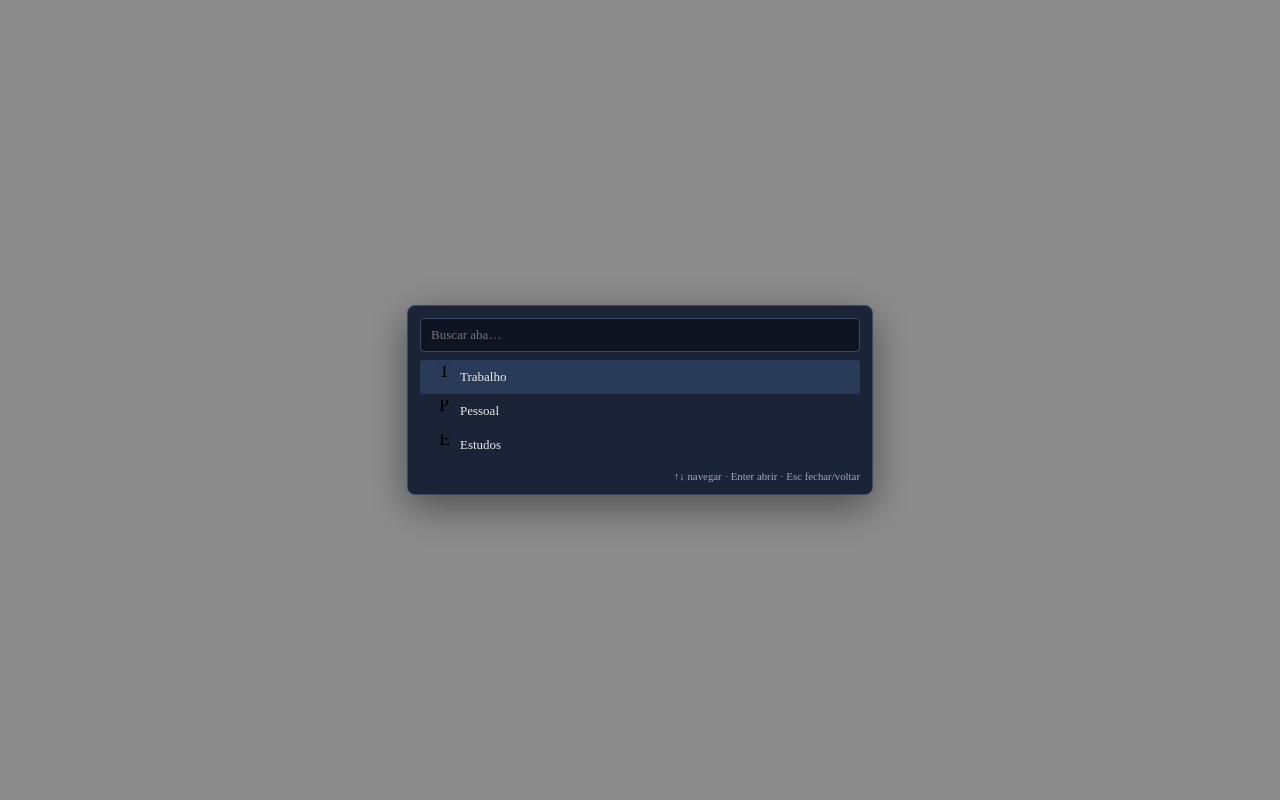
TabSearchOverlay › filters rows by substring as the user types
The image size is (1280, 800).
Type "trab" into the search field with test id "search-input".
click(640, 335); type("trab")  # box [420, 318, 860, 352]
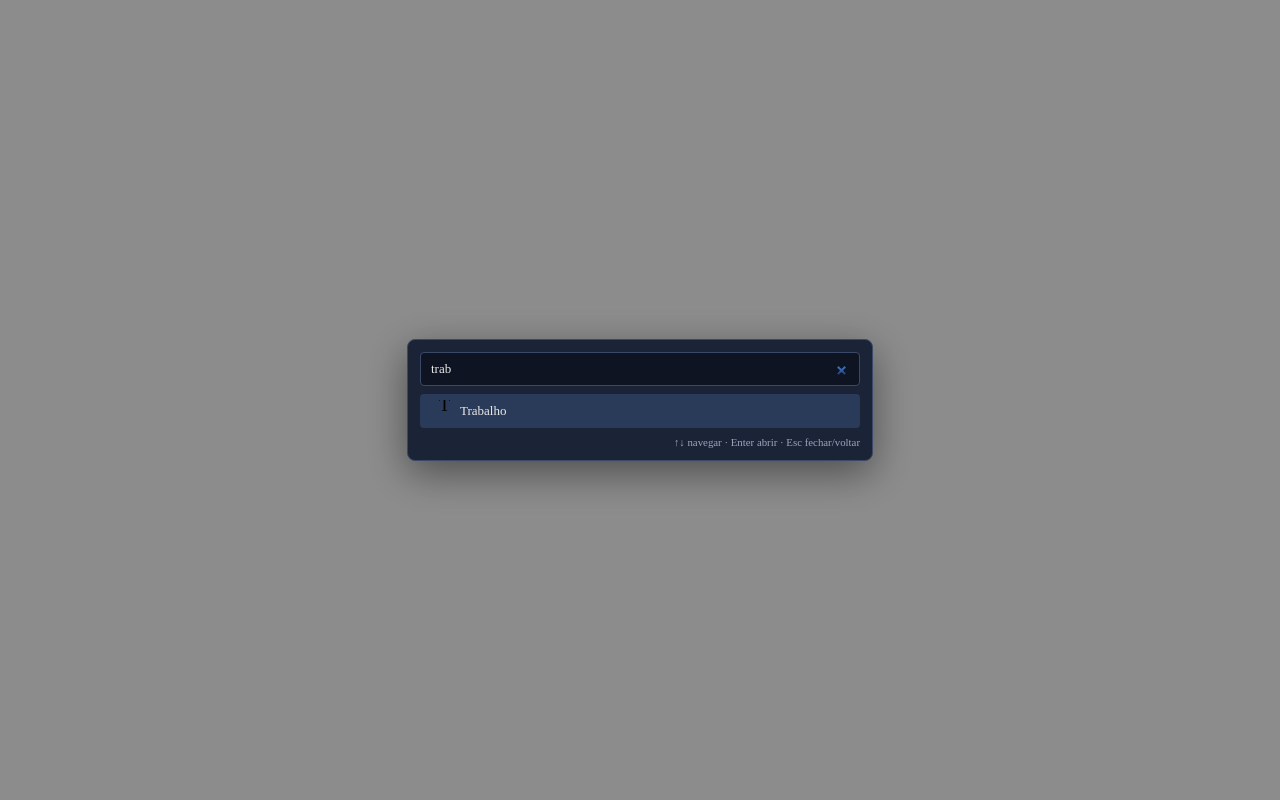
Expected: the option with test id "search-row-0" shows "Trabalho", [420, 394, 860, 428]
Result: the option with test id "search-row-1" is gone
